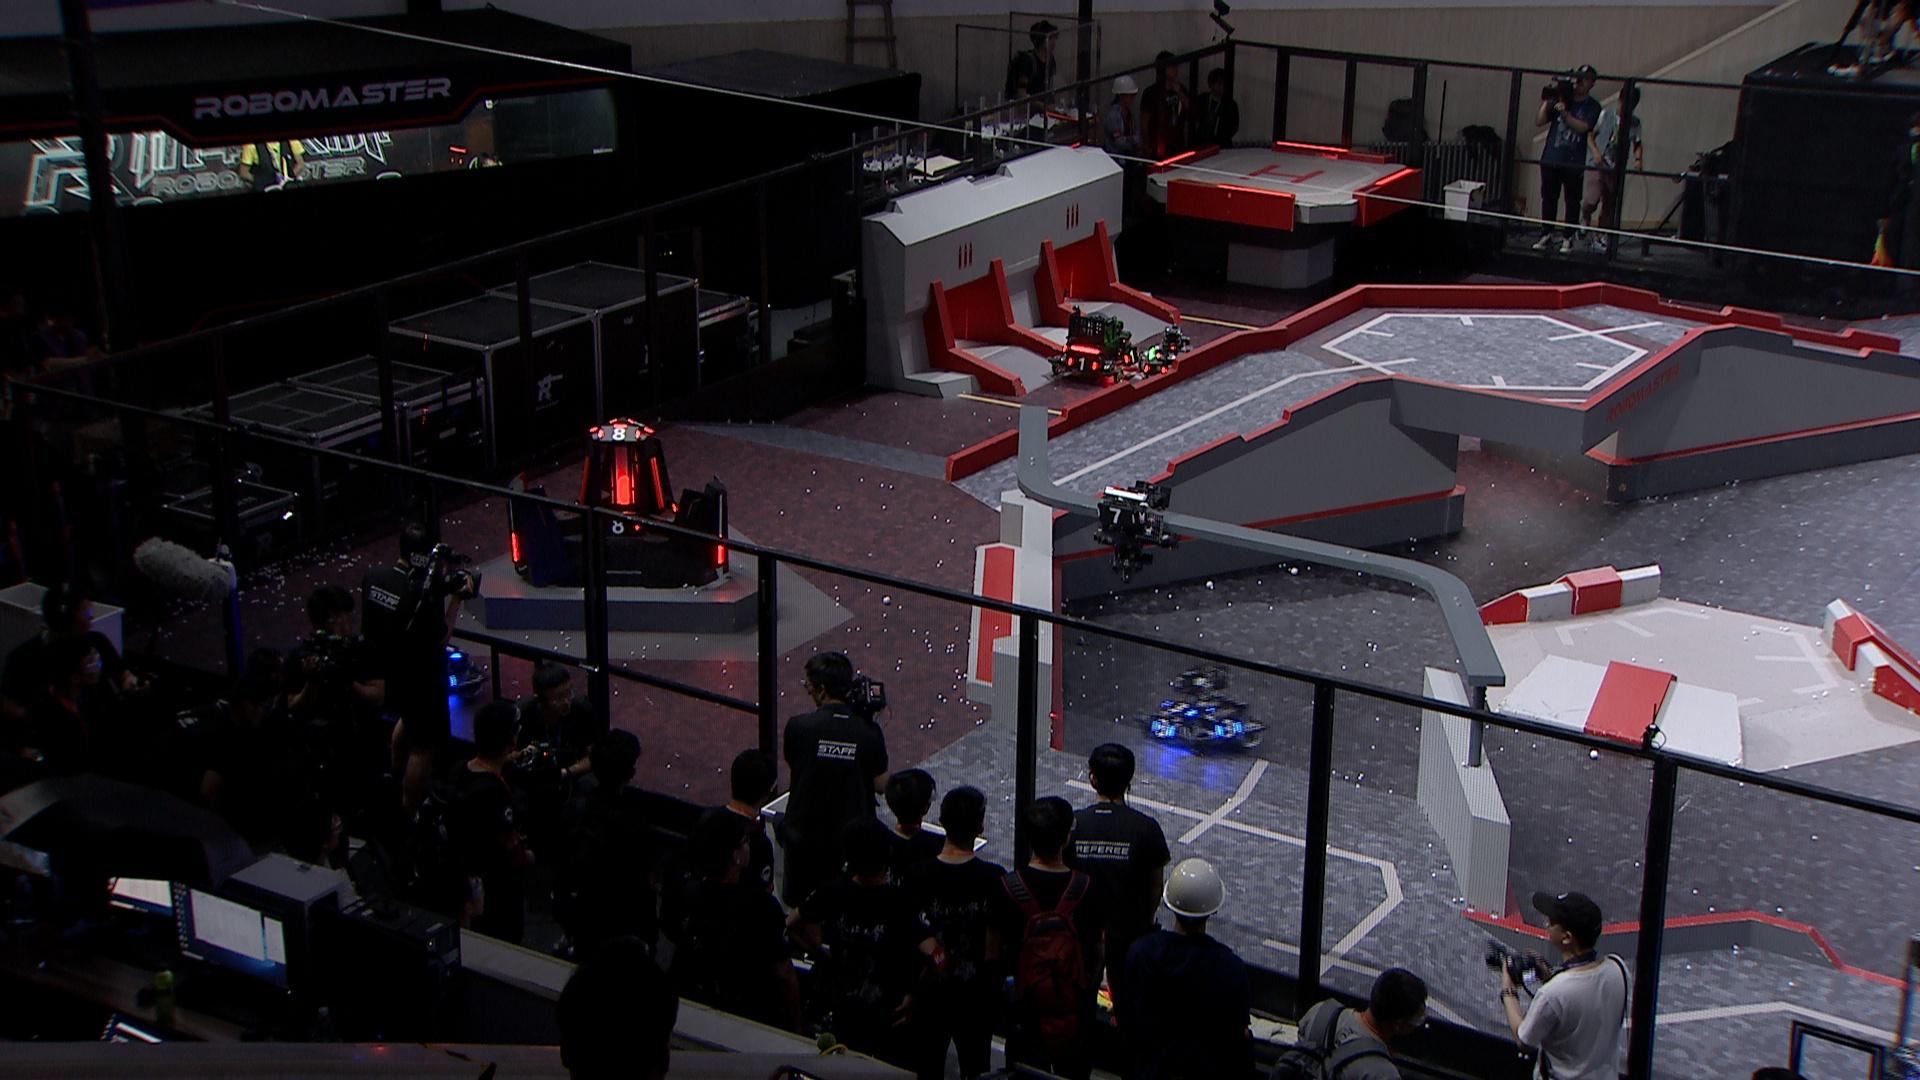armor: (647, 455, 666, 513), (1095, 505, 1139, 527), (595, 425, 644, 444), (1212, 717, 1247, 741), (575, 456, 591, 508), (612, 472, 633, 509), (1064, 353, 1101, 375), (1162, 698, 1200, 717), (605, 517, 641, 537), (1150, 717, 1178, 740), (509, 529, 524, 566), (712, 541, 728, 567), (1120, 347, 1139, 365), (1153, 351, 1182, 363)
base: (506, 417, 733, 591)
car: (1134, 661, 1271, 756), (359, 613, 491, 711), (1044, 305, 1141, 384), (1134, 324, 1200, 381)
watcher: (1091, 477, 1182, 585)
